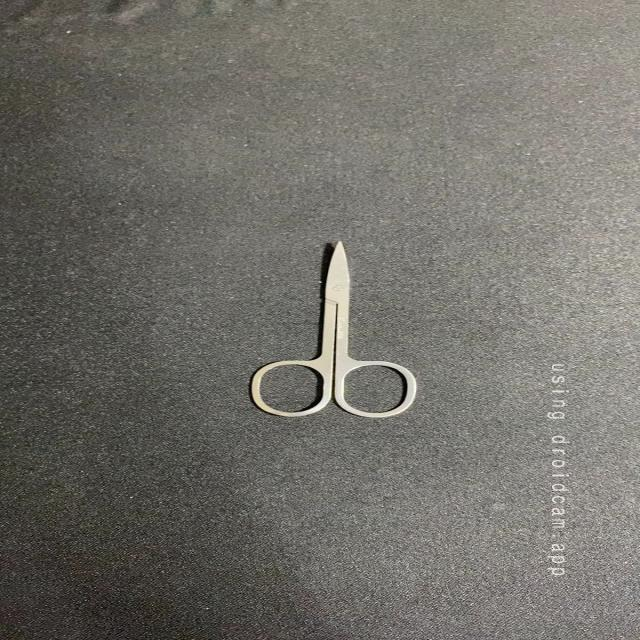scissor: (231, 236, 424, 421)
